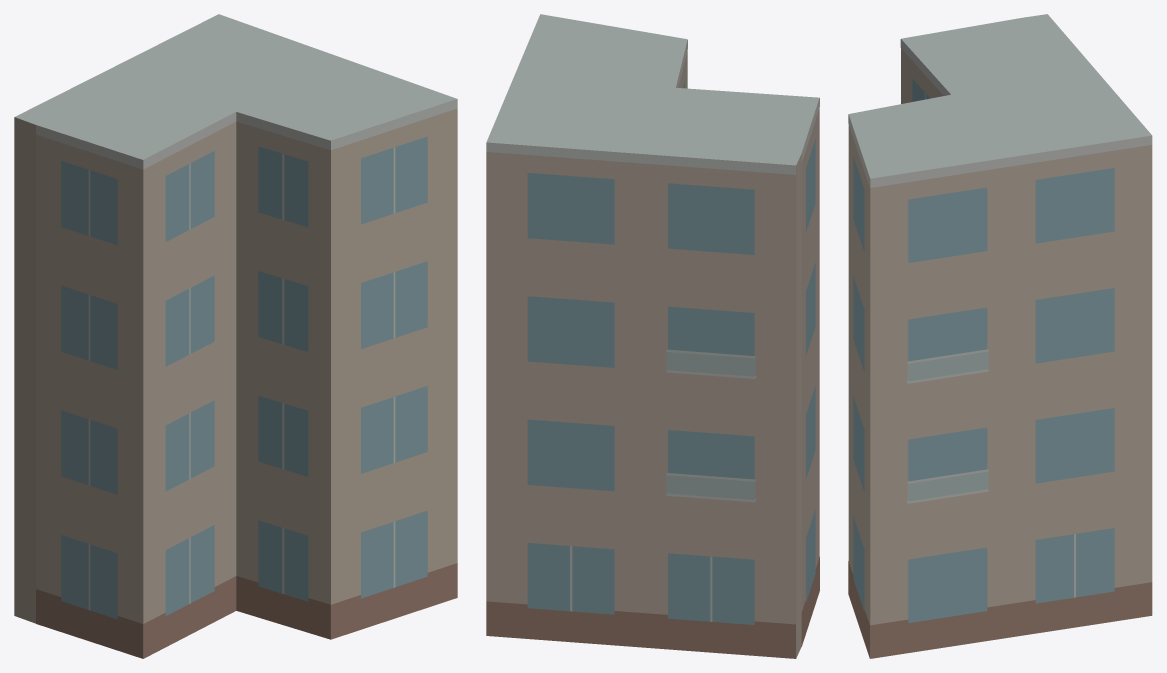
File: survey-upis-32996654.glb
3 renders of one model, left to right at view 1: azimuth 30°, elevation 25°; view 2: azimuth 150°, elevation 25°; view 3: azimuth 270°, elevation 25°, orthographic. The views are drawn at different scales.
Parts seen in each view (by area): view 1: survey-upis-32996654.tmp; view 2: survey-upis-32996654.tmp; view 3: survey-upis-32996654.tmp.
Boxes of the visible parts, left/top/right/bottom form: survey-upis-32996654.tmp: left=14, top=14, right=457, bottom=658; survey-upis-32996654.tmp: left=486, top=14, right=819, bottom=658; survey-upis-32996654.tmp: left=848, top=14, right=1152, bottom=658.
Bounding box in the file's own units: 9.36 × 12.7 × 7.29.
